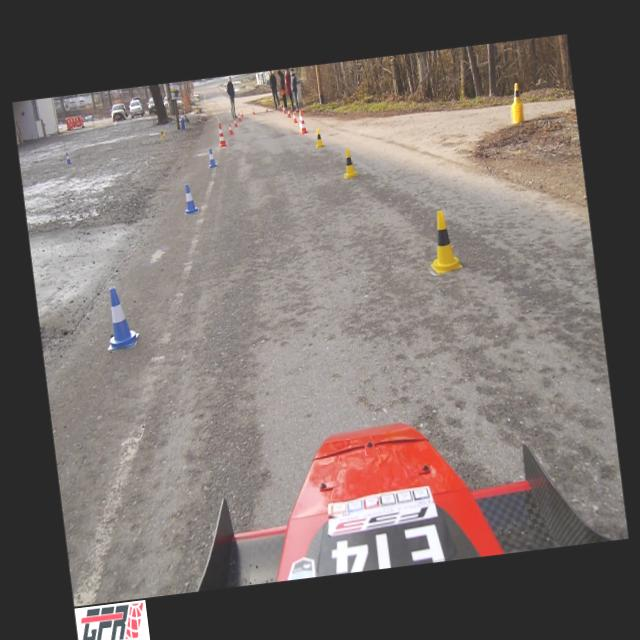blue_cone: (100, 286, 140, 350), (181, 184, 198, 213), (206, 148, 216, 167), (65, 152, 71, 164), (180, 112, 183, 120)
large_orange_cone: (297, 109, 308, 133), (216, 122, 226, 146)
orange_cone: (227, 122, 233, 134), (232, 117, 238, 127), (292, 111, 297, 123), (286, 108, 291, 118), (236, 112, 241, 121), (282, 105, 286, 114), (265, 104, 268, 112), (278, 102, 281, 110), (252, 107, 254, 114), (240, 110, 242, 116)
yellow_cone: (424, 210, 462, 272), (340, 147, 358, 178), (510, 82, 522, 105), (314, 128, 324, 146), (159, 128, 164, 138)
